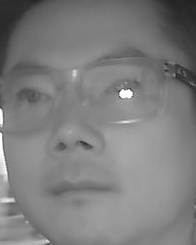eye: (14, 84, 52, 106)
glass: (75, 54, 166, 124), (1, 67, 63, 133)
mouth: (51, 175, 108, 210)
